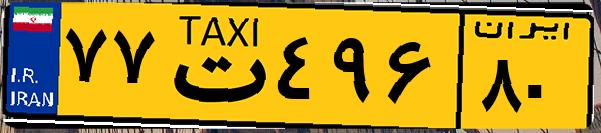0: (525, 38, 570, 115)
4: (270, 28, 330, 110)
6: (385, 28, 445, 110)
7: (57, 26, 110, 100), (110, 28, 158, 98)
8: (475, 38, 525, 113)
9: (330, 28, 385, 110)
ت: (158, 12, 270, 120)
